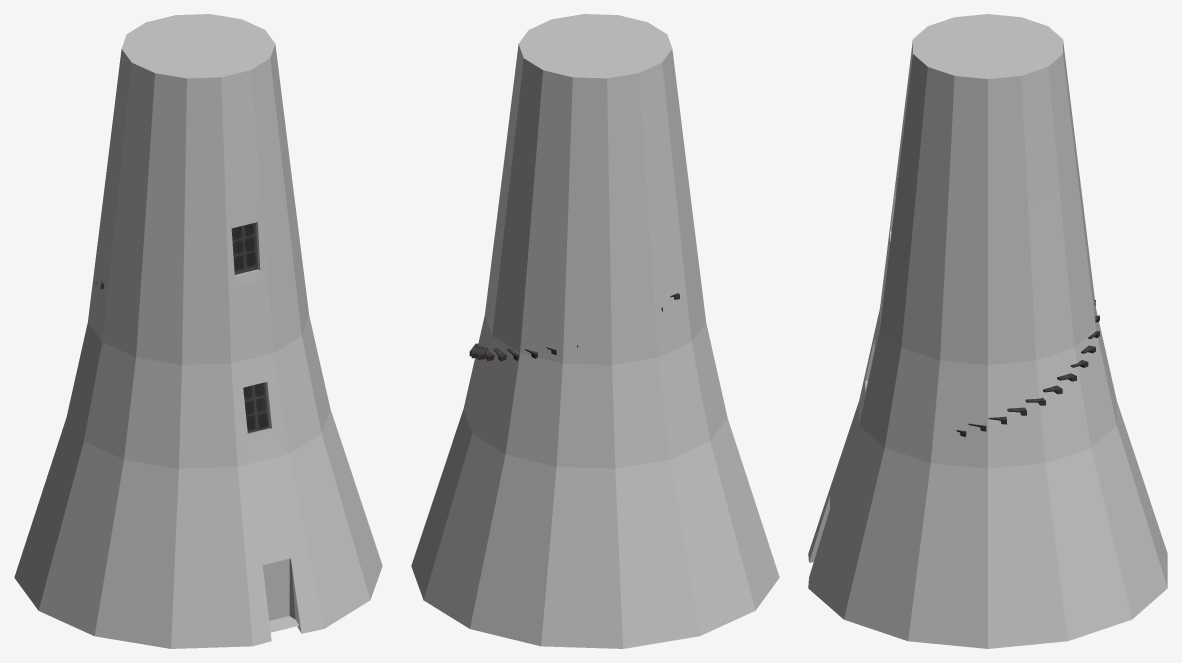
Rendered from lighthouse_interior.fbx.
3 views of the same model, side by side, from view 1: azimuth 30°, elevation 25°; view 2: azimuth 150°, elevation 25°; view 3: azimuth 270°, elevation 25° (orthographic).
Visible parts, largest first — view 1: lighthouse_interior, lighthouse_interior_windowpane; view 2: lighthouse_interior, lighthouse_second_stairs; view 3: lighthouse_interior, lighthouse_second_stairs.
Boxes of the visible parts, left/top/right/bottom form: lighthouse_interior: left=14, top=14, right=382, bottom=648; lighthouse_interior_windowpane: left=231, top=222, right=269, bottom=433; lighthouse_interior: left=411, top=14, right=779, bottom=648; lighthouse_second_stairs: left=469, top=293, right=679, bottom=361; lighthouse_interior: left=808, top=14, right=1167, bottom=648; lighthouse_second_stairs: left=956, top=300, right=1099, bottom=436.
Size of the model in its own units: 20295 by 31852 by 19790.
